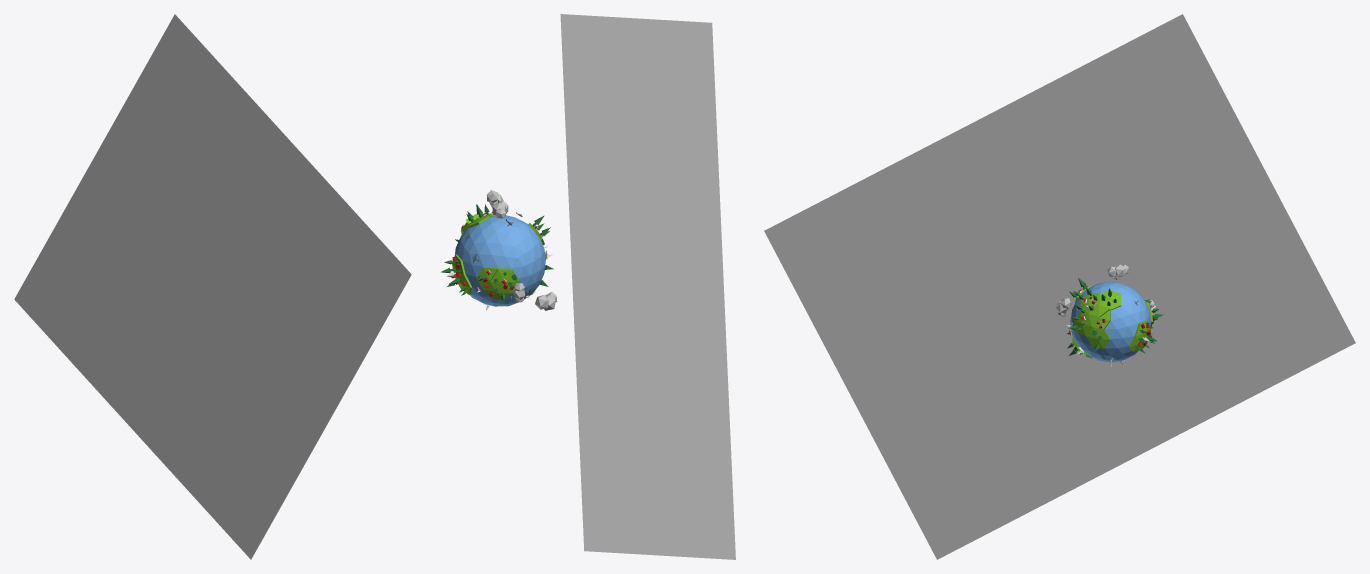
The model's file is planet.fbx.
3 renders of one model, left to right at view 1: azimuth 30°, elevation 25°; view 2: azimuth 150°, elevation 25°; view 3: azimuth 270°, elevation 25°, orthographic. The views are drawn at different scales.
Parts seen in each view (by area): view 1: Plane.003; view 2: Plane.003, Icosphere.001, Icosphere, Icosphere.005; view 3: Plane.003, Icosphere.001, Icosphere.
Part boxes in pixels (x1=…): Plane.003: x1=14, y1=14, x2=411, y2=559; Plane.003: x1=560, y1=14, x2=735, y2=559; Icosphere.001: x1=455, y1=215, x2=545, y2=306; Icosphere: x1=452, y1=213, x2=544, y2=299; Icosphere.005: x1=486, y1=190, x2=557, y2=310; Plane.003: x1=764, y1=14, x2=1355, y2=559; Icosphere.001: x1=1070, y1=281, x2=1151, y2=362; Icosphere: x1=1070, y1=286, x2=1152, y2=358.
Size of the model in its own units: 719 by 1592 by 1523.
